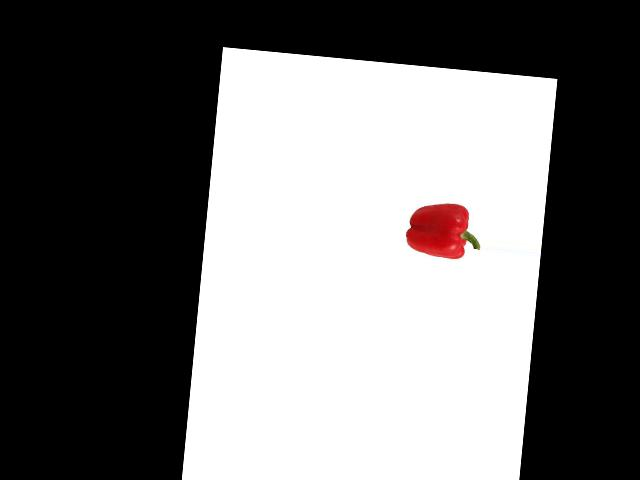bell_pepper: (403, 191, 484, 263)
